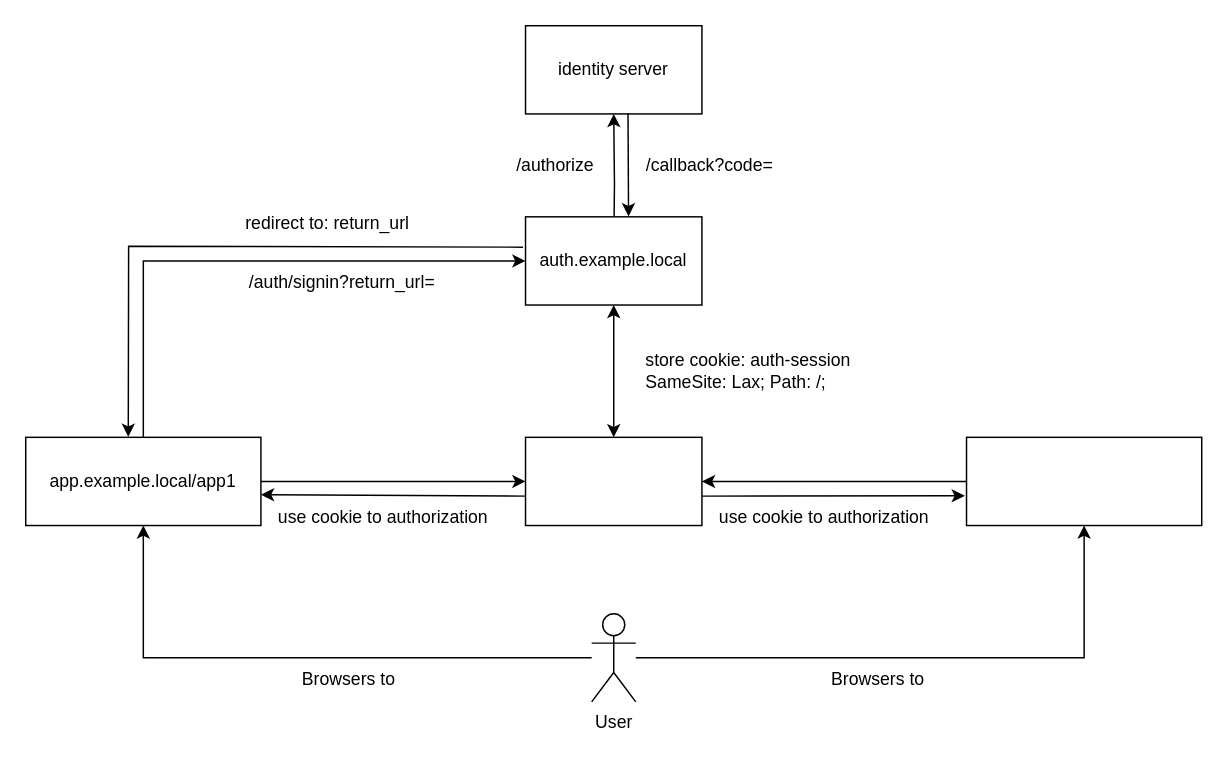
Some shapes in this 1227 by 759 pixel diagram are drawn without their labels. The centre of each missing label's shape, as x and y in pixels:
app.example.local/app2: [1083,481]
browser cookie storage: [613,481]
